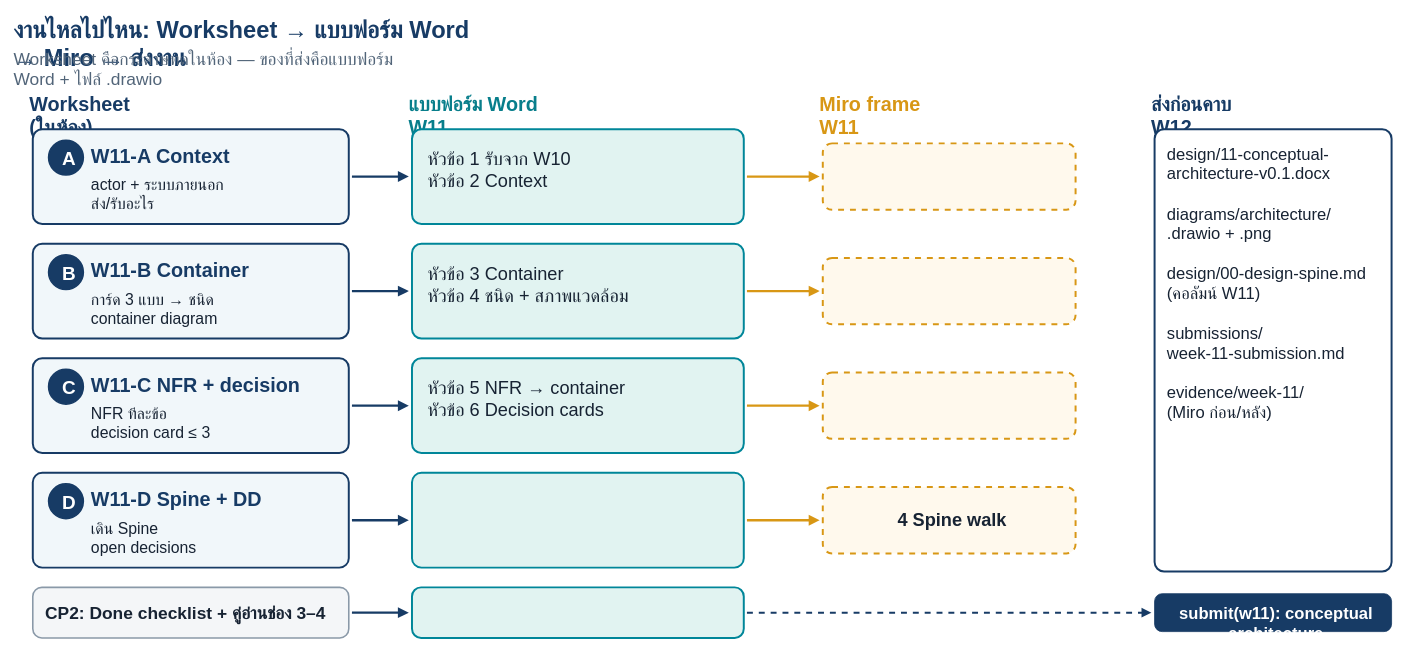
This 1412x657 diagram has some shape labels left out. The centre of each missing label's shape, as x and y in pixels:
"1 Context (PNG)" goes at point 948,176.
"2 Container (PNG)" goes at point 948,291.
"3 Decision cards" goes at point 948,405.
"หัวข้อ 7 เดิน Spine หัวข้อ 8 Open decisions" goes at point 577,519.
"หัวข้อ 9–11 ส่งต่อ · Done checklist · worklog" goes at point 577,612.
